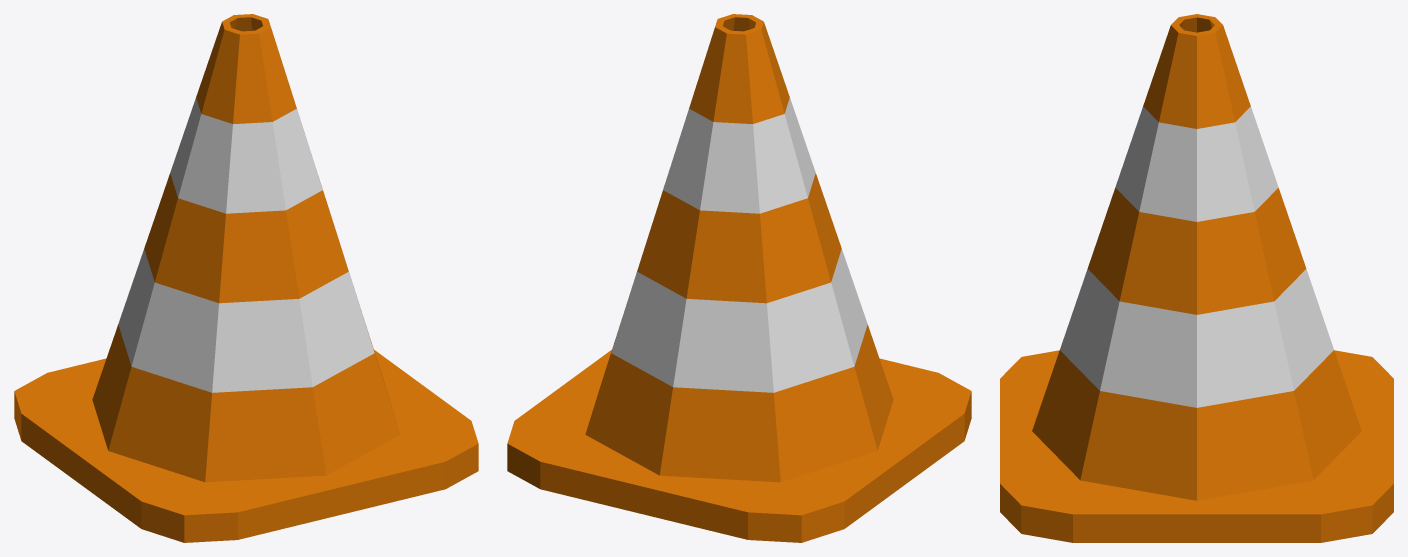
The model's file is TrafficCone.fbx.
The picture shows the model from 3 angles, left to right: view 1: azimuth 30°, elevation 25°; view 2: azimuth 150°, elevation 25°; view 3: azimuth 270°, elevation 25°; orthographic projection. The views are drawn at different scales.
Parts seen in each view (by area): view 1: TrafficCone; view 2: TrafficCone; view 3: TrafficCone.
Boxes of the visible parts, box(x1,y1,x2,y2) form: TrafficCone: box(14, 14, 478, 542); TrafficCone: box(507, 14, 971, 542); TrafficCone: box(1000, 14, 1393, 542).
Size of the model in its own units: 100 by 122 by 100.
